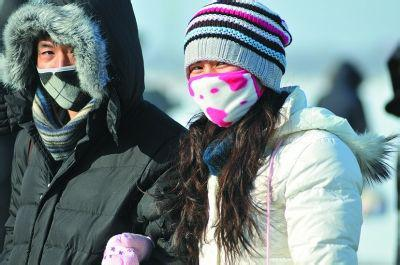OK: (190, 54, 254, 118)
WRONG: (38, 42, 97, 109)
